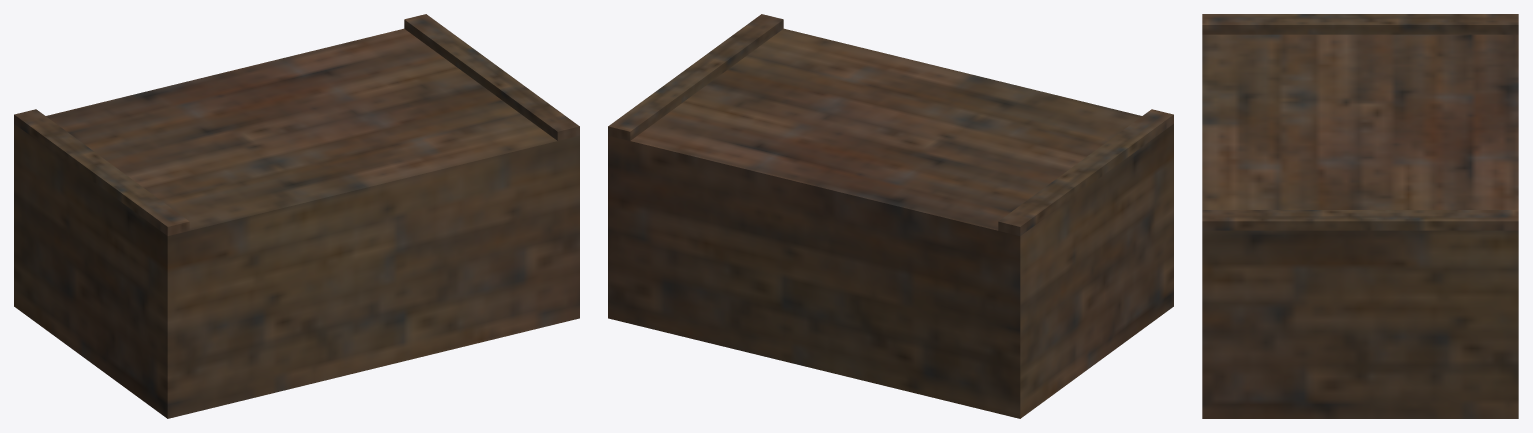
File: SmallCrate.fbx
3 renders of one model, left to right at view 1: azimuth 30°, elevation 25°; view 2: azimuth 150°, elevation 25°; view 3: azimuth 270°, elevation 25°, orthographic. The views are drawn at different scales.
Parts seen in each view (by area): view 1: SmallCrate; view 2: SmallCrate; view 3: SmallCrate.
Boxes of the visible parts, left/top/right/bottom form: SmallCrate: left=14, top=14, right=579, bottom=418; SmallCrate: left=608, top=14, right=1173, bottom=418; SmallCrate: left=1202, top=14, right=1518, bottom=418.
Size of the model in its own units: 0.9337 by 0.4157 by 0.6026.
